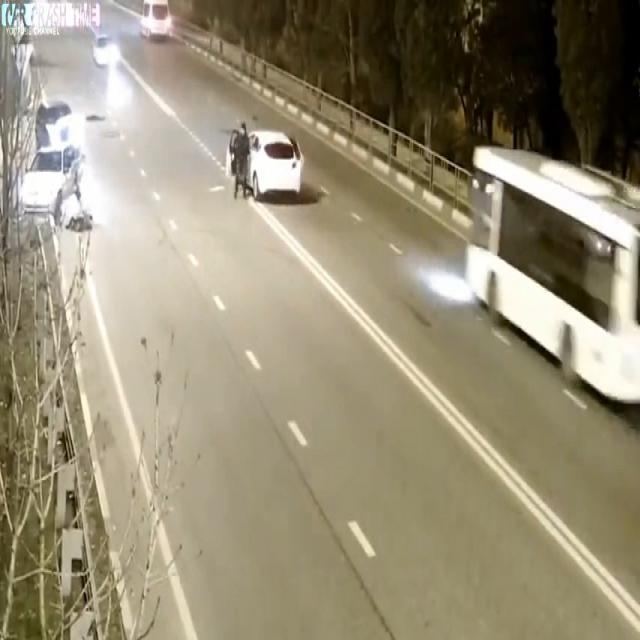Accident: (13, 69, 95, 230)
